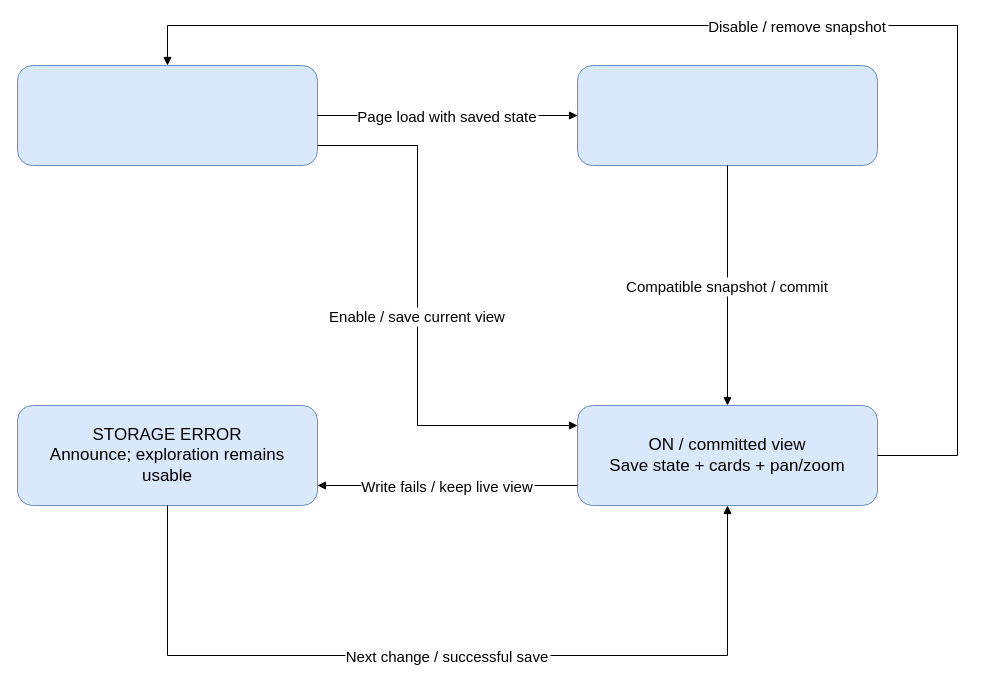
Some shapes in this 983 by 682 pixel diagram are drawn without their labels. Each missing label, with the box of its shape:
OFF / ordinary startup No view writes: (16, 64, 318, 166)
RESTORING Validate state; layout; cards; transform: (576, 64, 878, 166)
